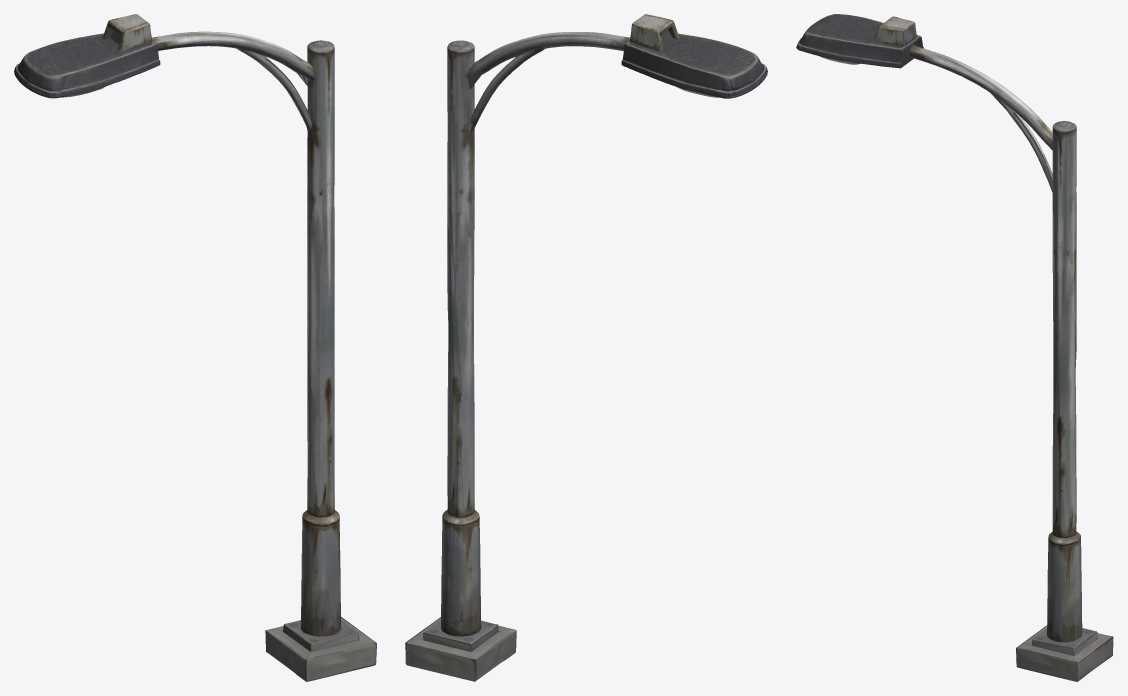
Rendered from street_light.glb.
3 views of the same model, side by side, from view 1: azimuth 30°, elevation 25°; view 2: azimuth 150°, elevation 25°; view 3: azimuth 330°, elevation 25° (orthographic). The views are drawn at different scales.
Size of the model in its own units: 0.9623 by 1.9 by 0.2199.
1 material, 1 textured.
